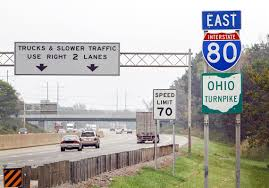speedLimit70: (151, 88, 178, 121)
